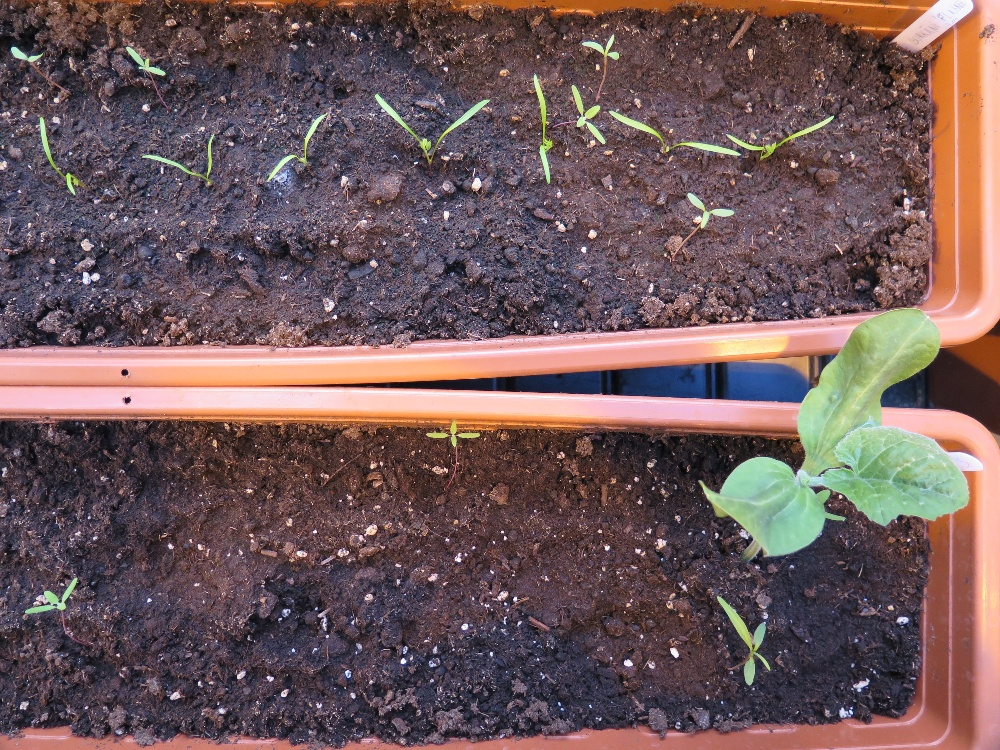crop: (373, 91, 494, 167), (266, 110, 328, 183), (140, 131, 215, 188), (38, 115, 82, 198), (532, 73, 554, 185)
weed: (715, 594, 773, 689), (22, 575, 78, 617), (570, 83, 607, 146), (686, 191, 735, 230), (423, 420, 482, 448), (125, 45, 166, 78), (581, 31, 620, 62), (9, 45, 44, 63)
